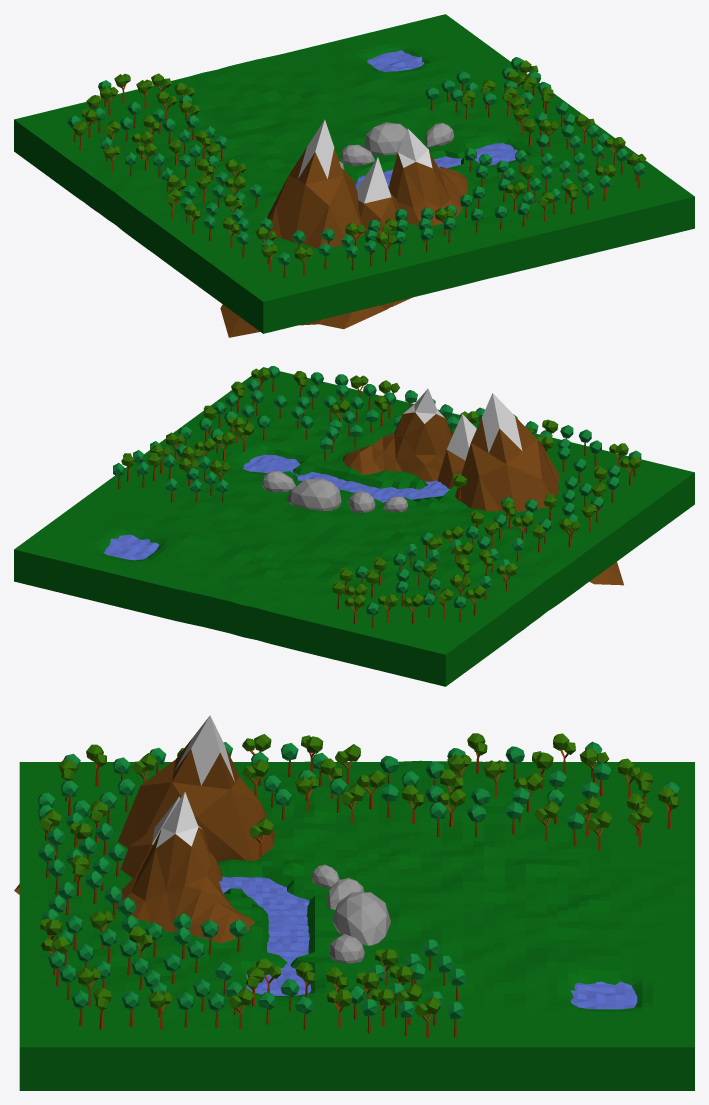
Rendered from kms.fbx.
The picture shows the model from 3 angles, top to bottom: view 1: azimuth 30°, elevation 25°; view 2: azimuth 150°, elevation 25°; view 3: azimuth 270°, elevation 25°; orthographic projection. The views are drawn at different scales.
Parts seen in each view (by area): view 1: Plane, Plane.005, Plane.001, Plane.004; view 2: Plane, Plane.005, Plane.001, Plane.004; view 3: Plane, Plane.005, Plane.001, Plane.004.
Boxes of the visible parts, x1,y1,x2,y2 form: Plane: (14,14,694,333); Plane.005: (67,50,646,337); Plane.001: (355,143,517,189); Plane.004: (367,52,423,71); Plane: (14,367,694,686); Plane.005: (103,366,641,628); Plane.001: (243,454,449,502); Plane.004: (105,534,157,560); Plane: (19,760,694,1090); Plane.005: (14,715,679,1037); Plane.001: (219,876,311,995); Plane.004: (570,981,637,1009).
Size of the model in its own units: 13417 by 5280 by 13526.
